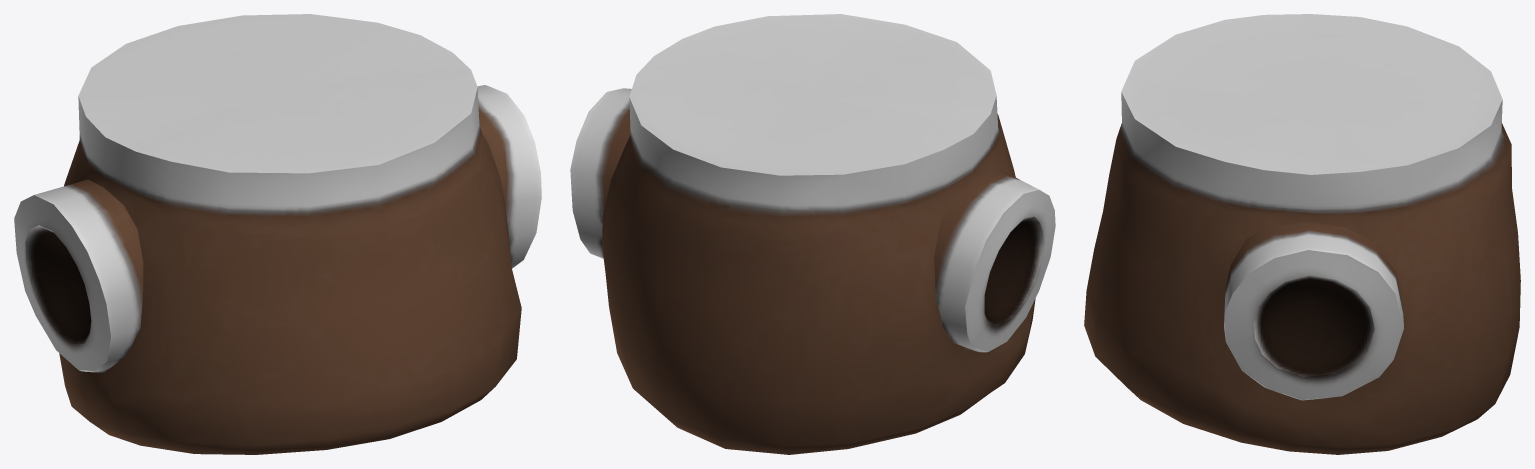
File: JLAB_ProtectiveClothes_Body.fbx
3 renders of one model, left to right at view 1: azimuth 30°, elevation 25°; view 2: azimuth 150°, elevation 25°; view 3: azimuth 270°, elevation 25°, orthographic. The views are drawn at different scales.
Parts seen in each view (by area): view 1: JLab_ProtectiveClothesOutSpace; view 2: JLab_ProtectiveClothesOutSpace; view 3: JLab_ProtectiveClothesOutSpace.
Boxes of the visible parts, x1,y1,x2,y2 form: JLab_ProtectiveClothesOutSpace: (14,14,541,454); JLab_ProtectiveClothesOutSpace: (570,14,1055,454); JLab_ProtectiveClothesOutSpace: (1084,14,1520,454).
Bounding box in the file's own units: 0.7204 × 0.4825 × 0.6302.
Materials: 1 (1 with a texture image).
